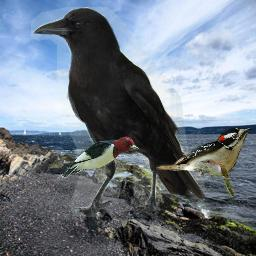Crow: (31, 7, 207, 217)
Cuckoo: (199, 159, 234, 197)
Woodpecker: (156, 124, 253, 179), (56, 133, 143, 183)
